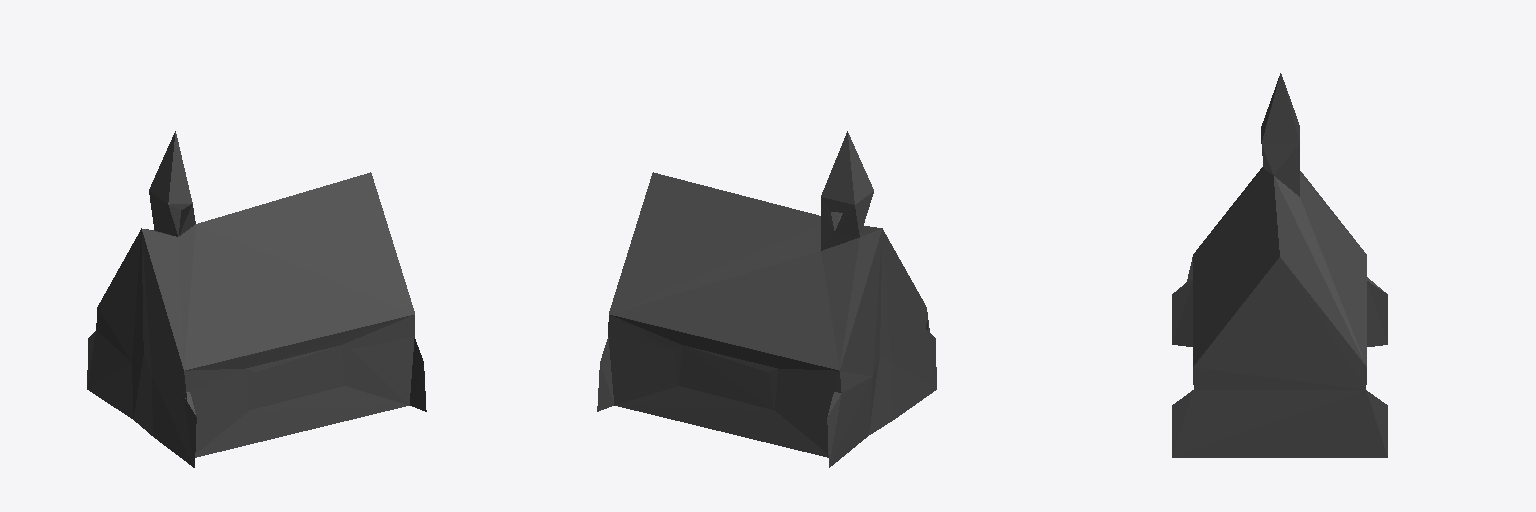
Rendered from chapel_dec02.obj.
3 views of the same model, side by side, from view 1: azimuth 30°, elevation 25°; view 2: azimuth 150°, elevation 25°; view 3: azimuth 270°, elevation 25° (orthographic).
Parts seen in each view (by area): view 1: Mesh.002_chapel.005; view 2: Mesh.002_chapel.005; view 3: Mesh.002_chapel.005.
Part boxes in pixels (bbox=[...]): Mesh.002_chapel.005: bbox=[87, 131, 426, 467]; Mesh.002_chapel.005: bbox=[597, 131, 936, 467]; Mesh.002_chapel.005: bbox=[1172, 73, 1387, 457].
Bounding box in the file's own units: 8.23 × 9.77 × 6.62.